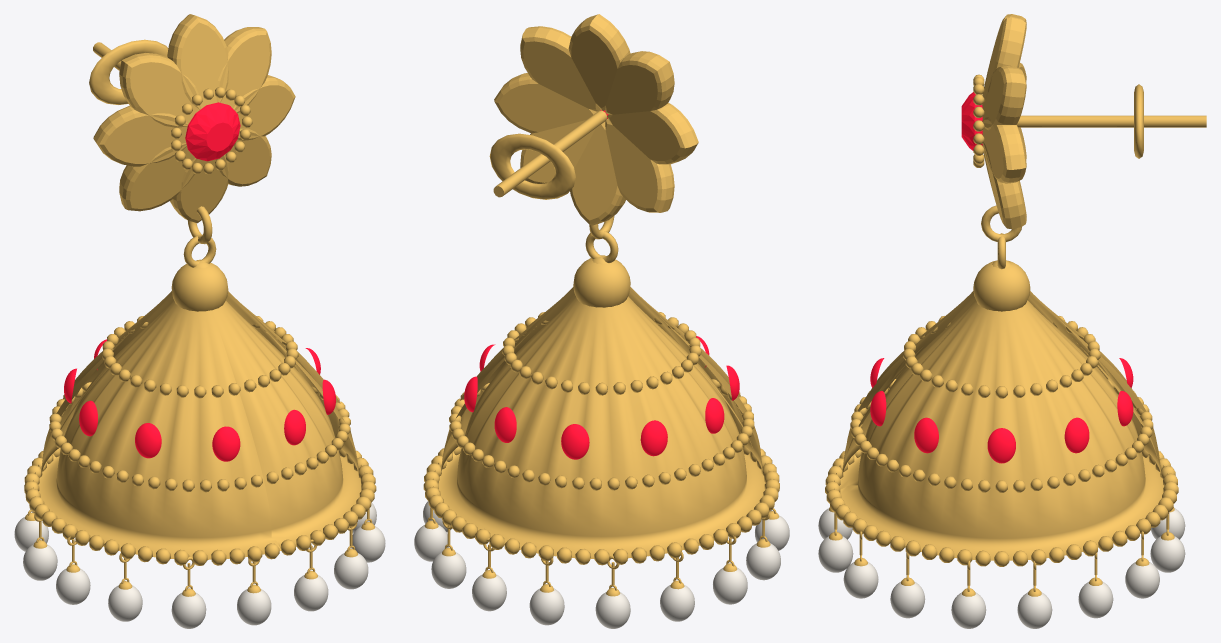
Rendered from jhumka-temple.glb.
3 views of the same model, side by side, from view 1: azimuth 30°, elevation 25°; view 2: azimuth 150°, elevation 25°; view 3: azimuth 270°, elevation 25° (orthographic).
Visible parts, largest first — view 1: jhumka-temple_gold22k, jhumka-temple_pearl, jhumka-temple_ruby; view 2: jhumka-temple_gold22k, jhumka-temple_pearl, jhumka-temple_ruby; view 3: jhumka-temple_gold22k, jhumka-temple_pearl, jhumka-temple_ruby.
Part boxes in pixels (left/top/right/bottom): jhumka-temple_gold22k: left=24, top=14, right=376, bottom=596; jhumka-temple_pearl: left=14, top=502, right=385, bottom=628; jhumka-temple_ruby: left=64, top=102, right=335, bottom=461; jhumka-temple_gold22k: left=423, top=14, right=779, bottom=596; jhumka-temple_pearl: left=414, top=501, right=789, bottom=628; jhumka-temple_ruby: left=464, top=110, right=739, bottom=459; jhumka-temple_gold22k: left=825, top=14, right=1206, bottom=596; jhumka-temple_pearl: left=818, top=508, right=1185, bottom=628; jhumka-temple_ruby: left=870, top=92, right=1133, bottom=463.
Size of the model in its own units: 1.79 by 2.91 by 1.9.
